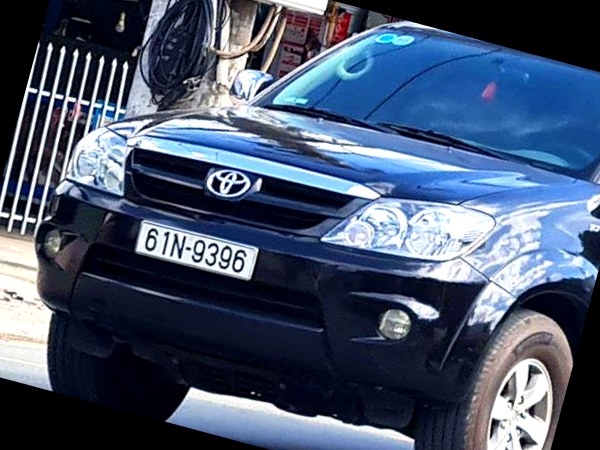lisence: (134, 220, 258, 280)
